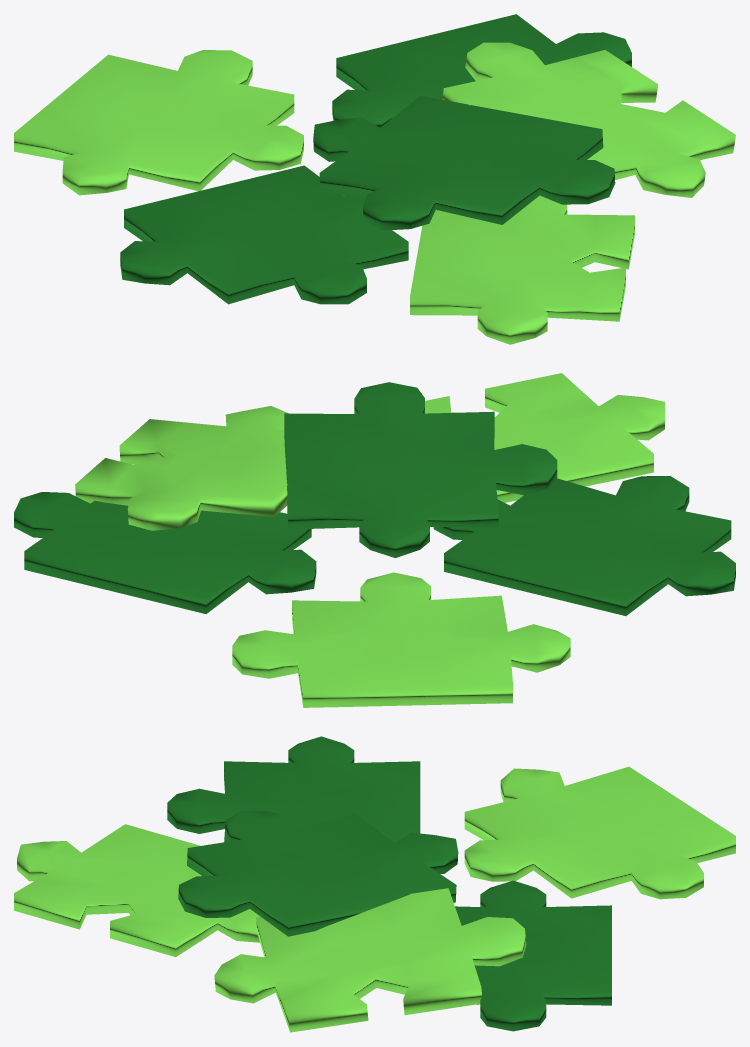
File: puzzle.gltf
3 renders of one model, top to bottom at view 1: azimuth 30°, elevation 25°; view 2: azimuth 150°, elevation 25°; view 3: azimuth 270°, elevation 25°, orthographic. The views are drawn at different scales.
Parts seen in each view (by area): view 1: Puzzle; view 2: Puzzle; view 3: Puzzle.
Part boxes in pixels (<box>): Puzzle: <box>14,14,735,344</box>; Puzzle: <box>14,373,735,707</box>; Puzzle: <box>14,736,735,1032</box>.
Size of the model in its own units: 0.3463 by 0.0325 by 0.3806.
